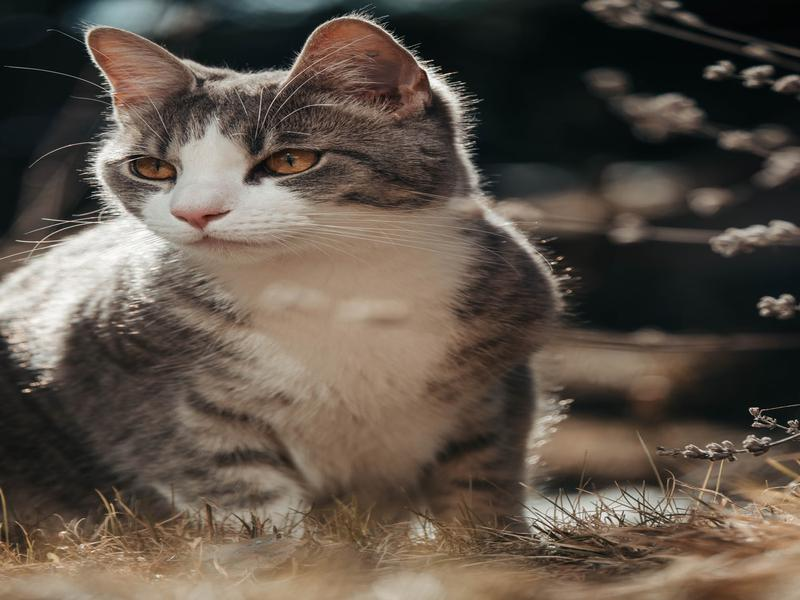cat: (2, 16, 571, 560)
